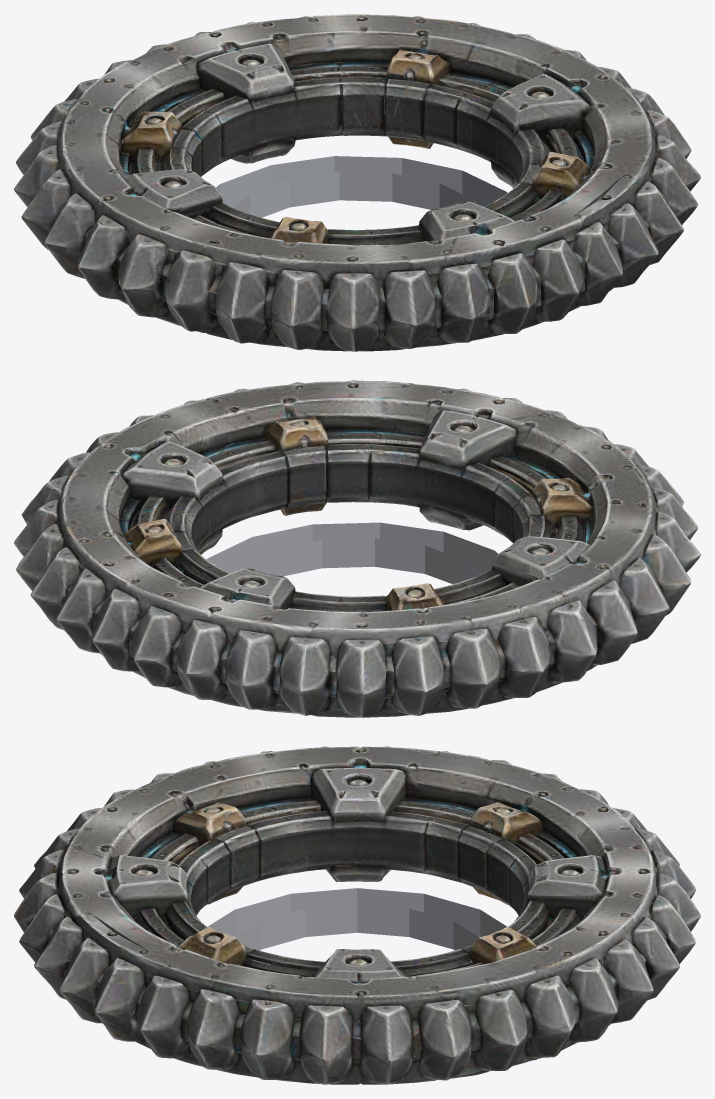
File: rasp.glb
The picture shows the model from 3 angles, top to bottom: view 1: azimuth 30°, elevation 25°; view 2: azimuth 150°, elevation 25°; view 3: azimuth 270°, elevation 25°; orthographic projection.
Visible parts, largest first — view 1: mesh_node; view 2: mesh_node; view 3: mesh_node.
Part boxes in pixels (x1,y1,x2,y2): mesh_node: [14, 14, 700, 351]; mesh_node: [14, 380, 700, 717]; mesh_node: [14, 746, 700, 1084].
Bounding box in the file's own units: 43.55 × 8.41 × 43.5.
Materials: 2 (1 with a texture image).
